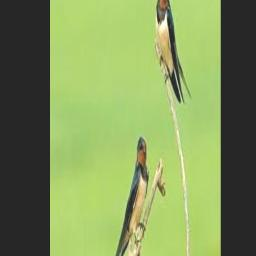Swallow: (108, 136, 149, 256), (155, 0, 191, 104)
